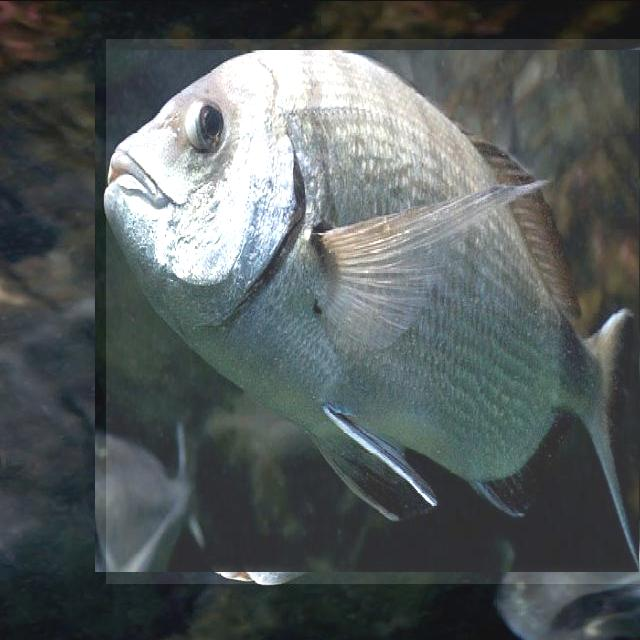Healthy Fish: (106, 38, 640, 583)
